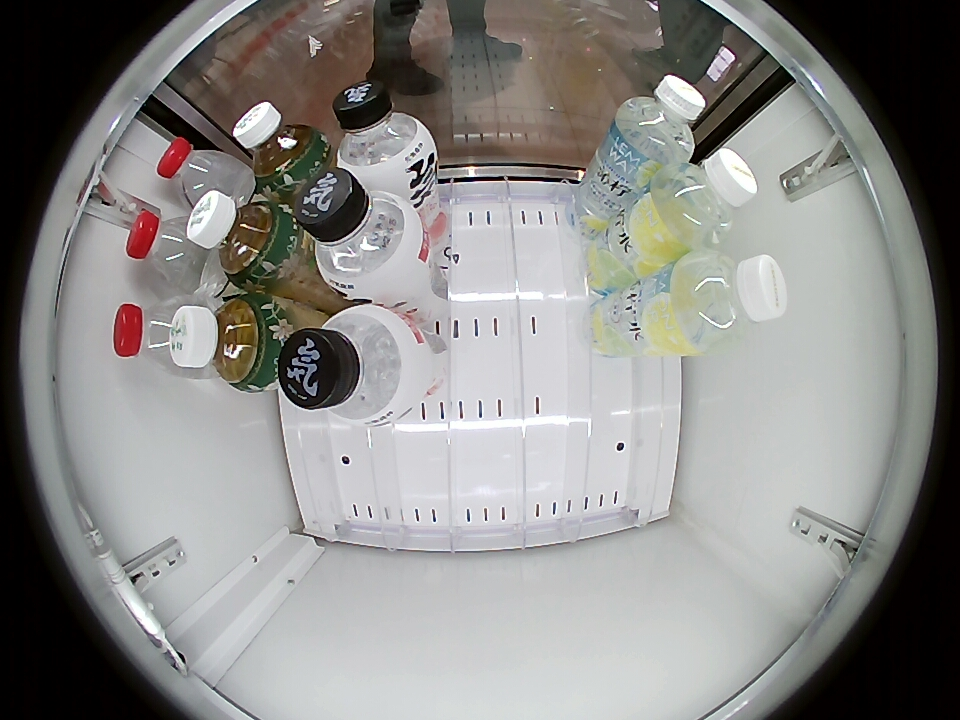moliqingcha: (170, 293, 283, 392), (186, 190, 296, 290), (233, 102, 330, 194)
nongfushanquan: (125, 209, 206, 290), (157, 137, 239, 208), (113, 298, 190, 373)
qinningshui: (669, 250, 787, 352), (650, 148, 758, 248), (613, 74, 706, 166)
yuanqishui: (279, 303, 422, 424), (295, 169, 427, 299), (332, 81, 435, 187)
